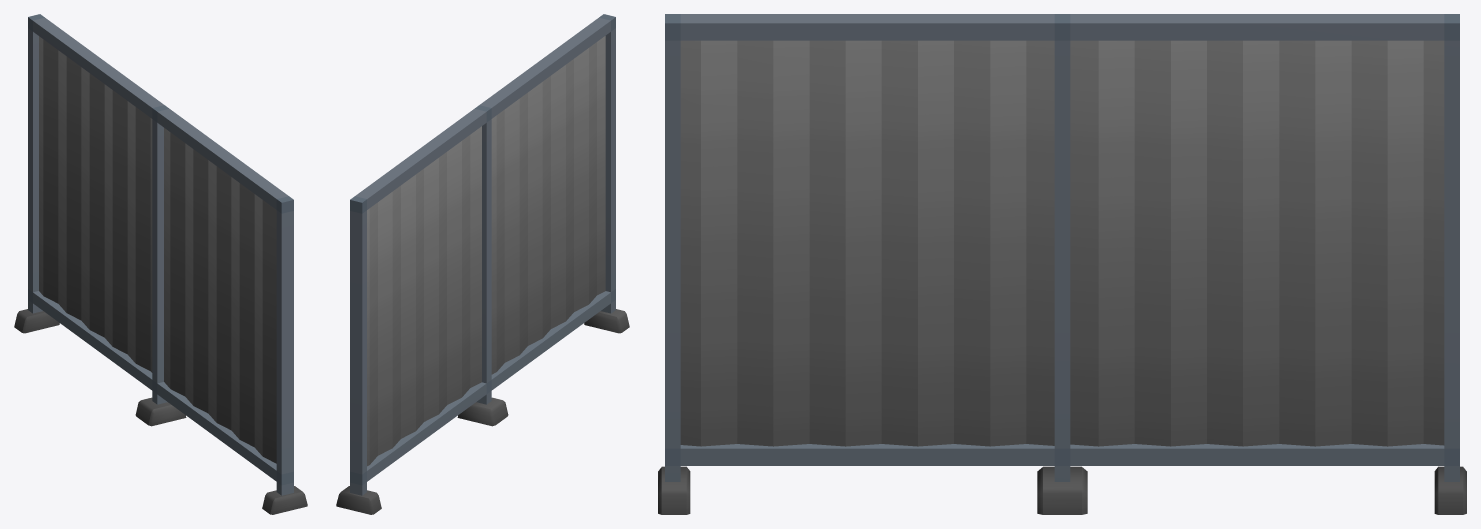
The model's file is Barier_1_3.fbx.
3 views of the same model, side by side, from view 1: azimuth 30°, elevation 25°; view 2: azimuth 150°, elevation 25°; view 3: azimuth 270°, elevation 25° (orthographic). The views are drawn at different scales.
Parts seen in each view (by area): view 1: Barier_1_3; view 2: Barier_1_3; view 3: Barier_1_3.
Boxes of the visible parts, x1,y1,x2,y2 form: Barier_1_3: (14, 14, 307, 514); Barier_1_3: (336, 14, 629, 514); Barier_1_3: (658, 14, 1466, 514).
Size of the model in its own units: 34.35 by 268 by 407.
